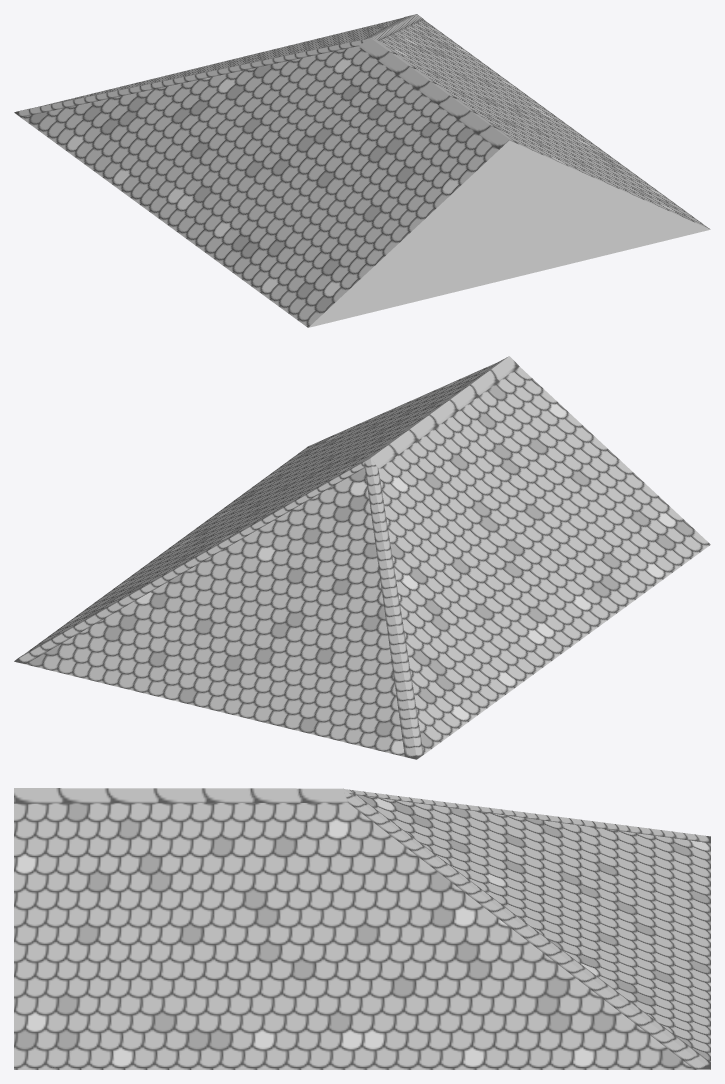
Rendered from HouseRoof4.fbx.
3 views of the same model, one above another, from view 1: azimuth 30°, elevation 25°; view 2: azimuth 150°, elevation 25°; view 3: azimuth 270°, elevation 25° (orthographic). The views are drawn at different scales.
Visible parts, largest first — view 1: Roof4; view 2: Roof4; view 3: Roof4.
Part boxes in pixels (x1=…): Roof4: x1=14, y1=14, x2=710, y2=327; Roof4: x1=14, y1=356, x2=710, y2=759; Roof4: x1=14, y1=788, x2=710, y2=1069.
Size of the model in its own units: 335 by 111 by 423.
1 material, 1 textured.
